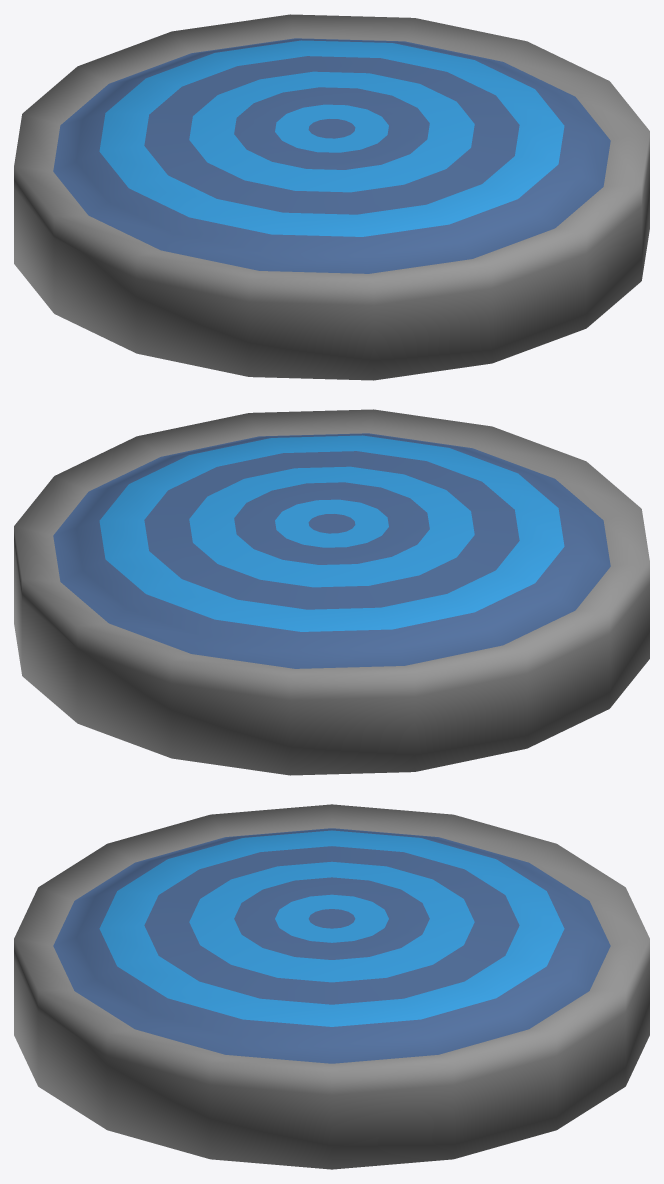
The model's file is jump_pad.fbx.
3 renders of one model, top to bottom at view 1: azimuth 30°, elevation 25°; view 2: azimuth 150°, elevation 25°; view 3: azimuth 270°, elevation 25°, orthographic.
Visible parts, largest first — view 1: JumpPad; view 2: JumpPad; view 3: JumpPad.
Part boxes in pixels (x1=…): JumpPad: x1=14, y1=14, x2=649, y2=380; JumpPad: x1=14, y1=409, x2=649, y2=775; JumpPad: x1=14, y1=804, x2=649, y2=1169.
Size of the model in its own units: 200 by 40.4 by 200.
